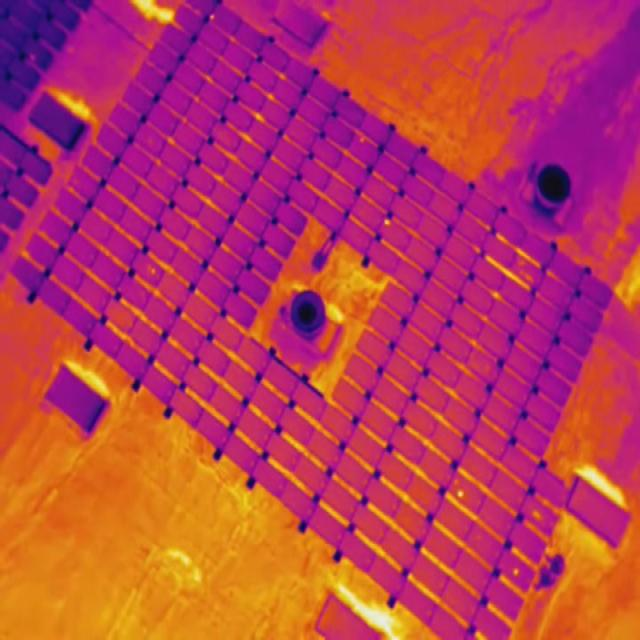Orange-Spots: (532, 510, 541, 520), (147, 265, 156, 274), (457, 490, 465, 499), (525, 274, 533, 282), (513, 568, 519, 577), (384, 220, 391, 226), (519, 260, 526, 266), (30, 55, 36, 61), (210, 14, 215, 20), (454, 480, 459, 486), (360, 138, 364, 143), (519, 270, 524, 274)
